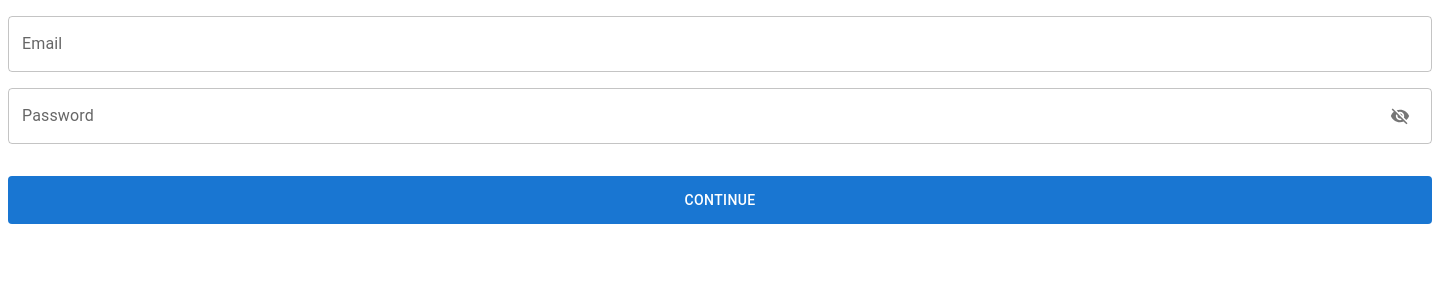
it: LoginForm (TS-11) › blocks submit and surfaces both required-field errors when fields are empty
What coordinates should you click on to do the following:
click the button "Continue"
I would click on:
 (720, 200)
Its box is [8,176,1432,224].
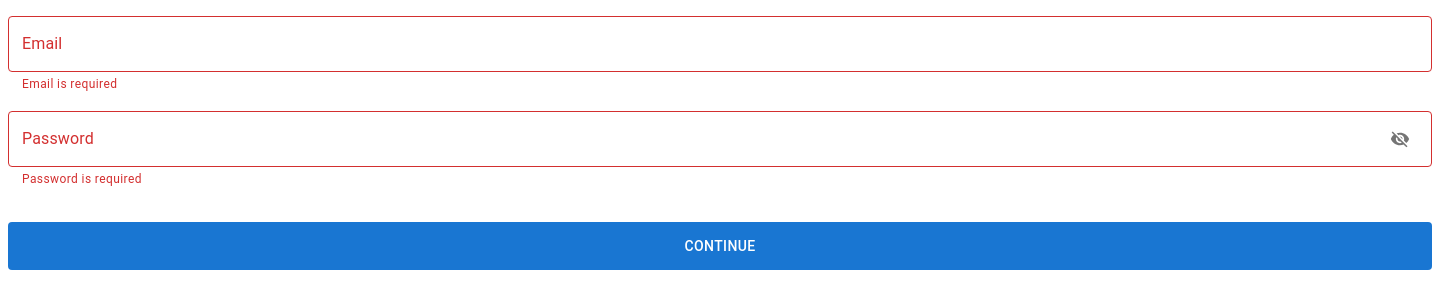
Expected: the text "Email is required" is shown, [22,77,117,91]
Expected: the text "Password is required" is shown, [22,172,142,186]
